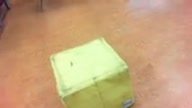cube: (50, 37, 135, 108)
